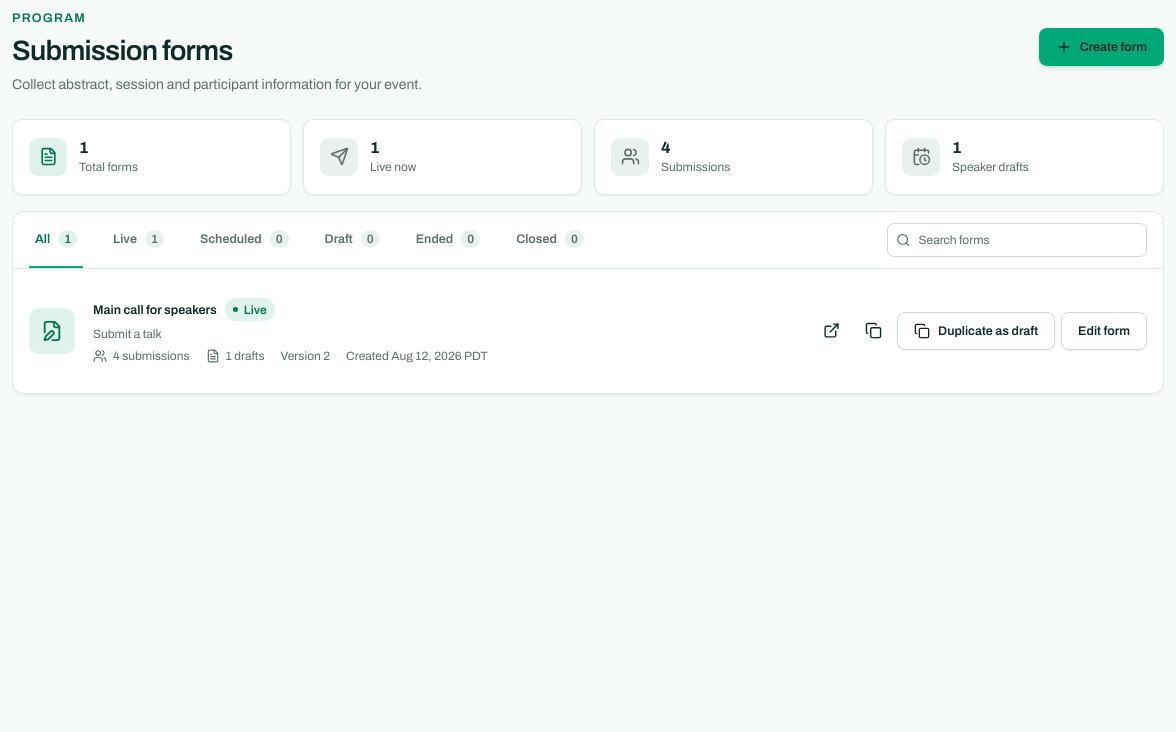
it: submission forms empty states › names the filter tab that emptied the list, not the event
Click the button "Draft 0" at (352, 240), box [319, 212, 386, 268]
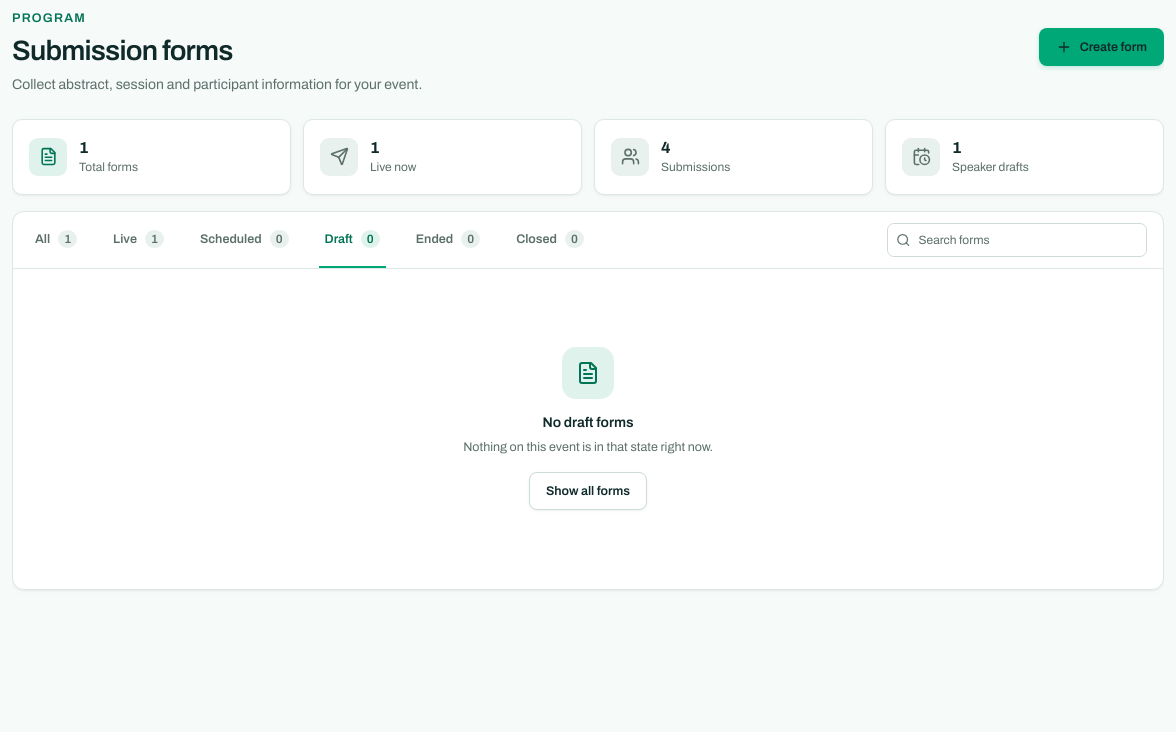
Expected: the heading "No draft forms" is shown, [542, 415, 634, 430]
Click the button "Show all forms" at (588, 491), box [529, 472, 647, 510]
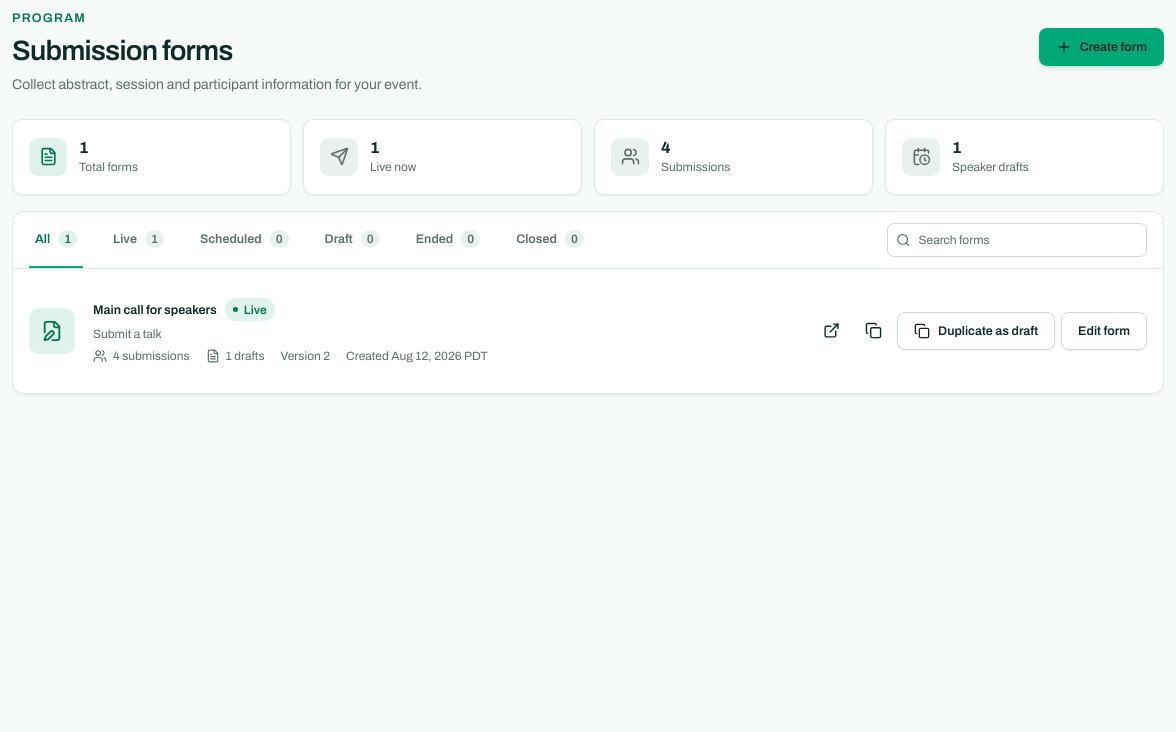
Expected: the text "Main call for speakers" is shown, [93, 302, 217, 316]
